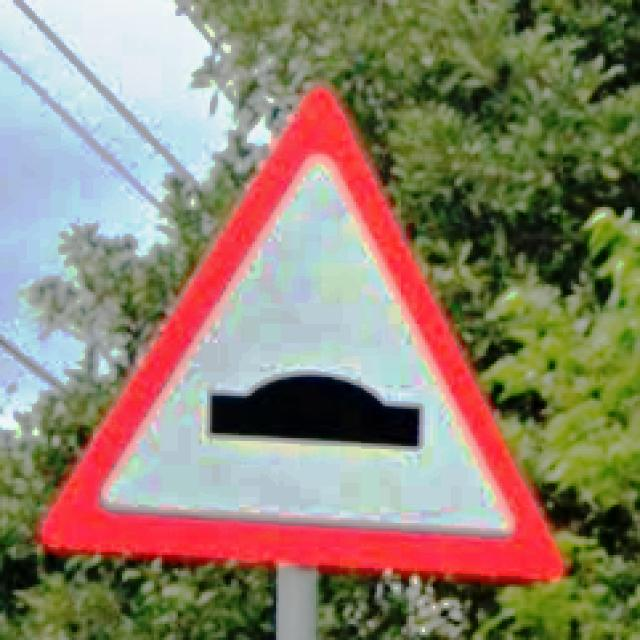hump: (41, 85, 566, 584)
